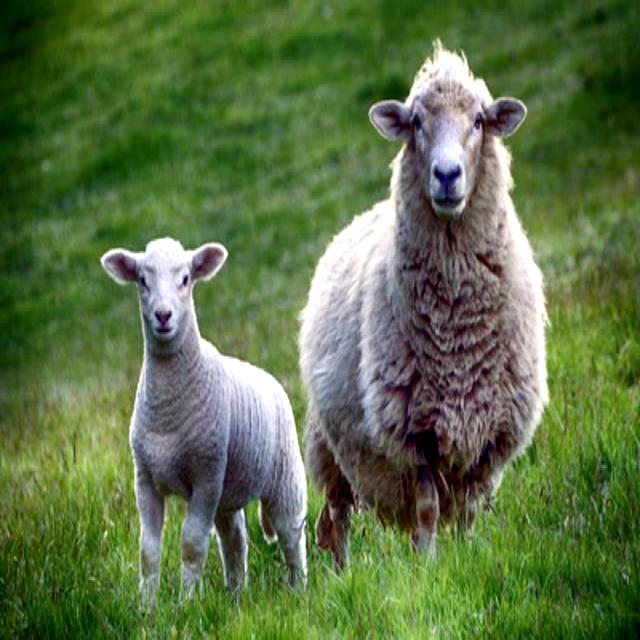sheep: (298, 38, 549, 573), (102, 237, 309, 615)
